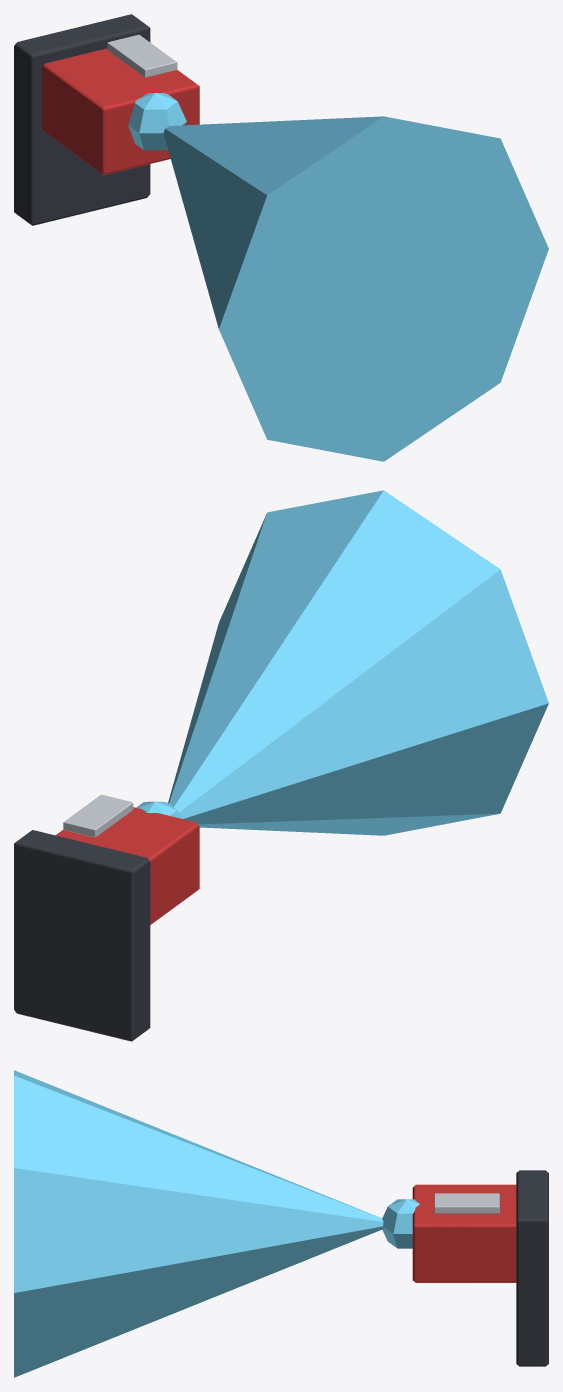
Rendered from staple_sentry.glb.
3 views of the same model, one above another, from view 1: azimuth 30°, elevation 25°; view 2: azimuth 150°, elevation 25°; view 3: azimuth 270°, elevation 25° (orthographic). The views are drawn at different scales.
Visible parts, largest first — view 1: view_cone, wall_plate, housing, lens, staple_mag; view 2: view_cone, wall_plate, housing, staple_mag; view 3: view_cone, housing, wall_plate, staple_mag, lens.
Boxes of the visible parts, x1,y1,x2,y2 form: view_cone: [163, 116, 548, 461]; wall_plate: [14, 14, 150, 225]; housing: [42, 48, 199, 175]; lens: [128, 93, 186, 150]; staple_mag: [107, 34, 177, 77]; view_cone: [168, 490, 548, 835]; wall_plate: [14, 830, 150, 1041]; housing: [55, 807, 199, 924]; staple_mag: [63, 794, 133, 837]; view_cone: [14, 1070, 383, 1377]; housing: [412, 1184, 516, 1282]; wall_plate: [516, 1170, 548, 1366]; staple_mag: [434, 1193, 499, 1213]; lens: [382, 1199, 419, 1248].
Bounding box in the file's own units: 0.6 × 0.6 × 0.98.
